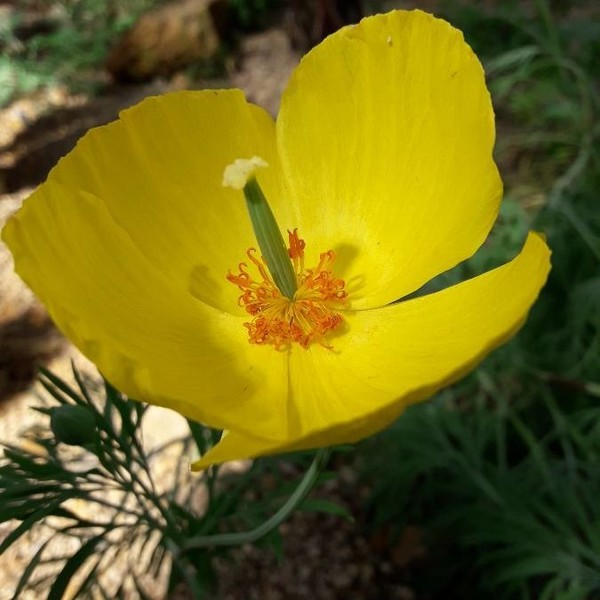obstacle: (49, 58, 554, 486)
